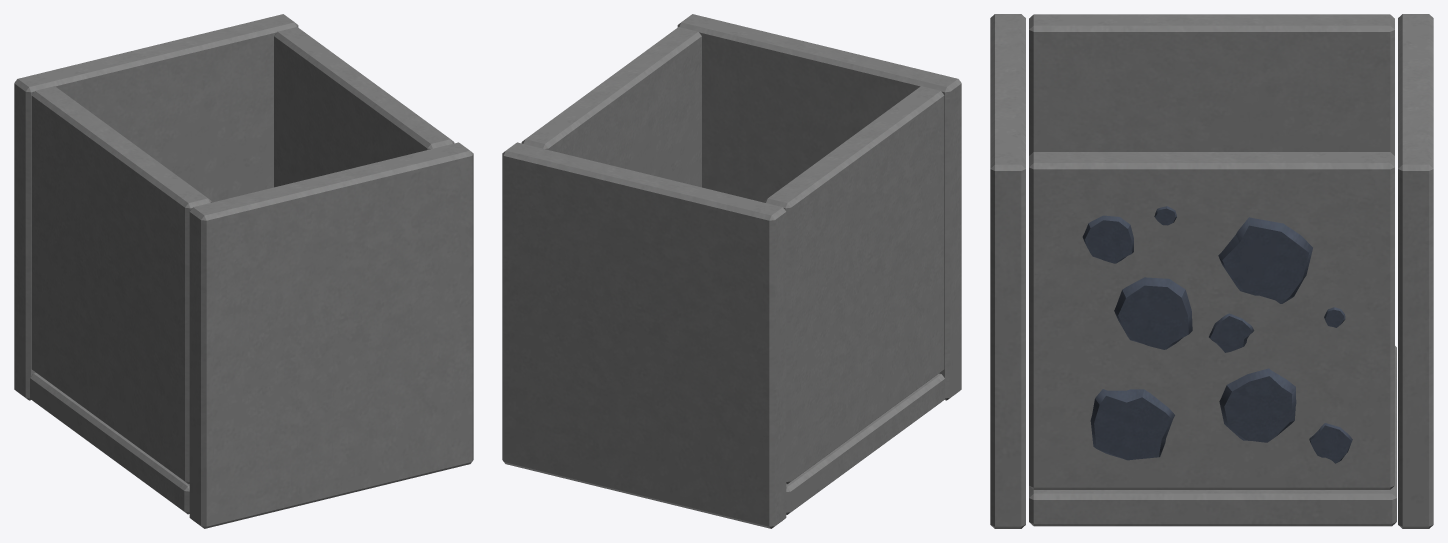
Rendered from RockFall.fbx.
3 views of the same model, side by side, from view 1: azimuth 30°, elevation 25°; view 2: azimuth 150°, elevation 25°; view 3: azimuth 270°, elevation 25° (orthographic). The views are drawn at different scales.
Visible parts, largest first — view 1: pCube33; view 2: pCube33; view 3: pCube33.
Boxes of the visible parts, bbox=[...] form: pCube33: bbox=[14, 14, 473, 528]; pCube33: bbox=[502, 14, 961, 528]; pCube33: bbox=[990, 14, 1433, 528].
Size of the model in its own units: 168 by 181 by 200.
